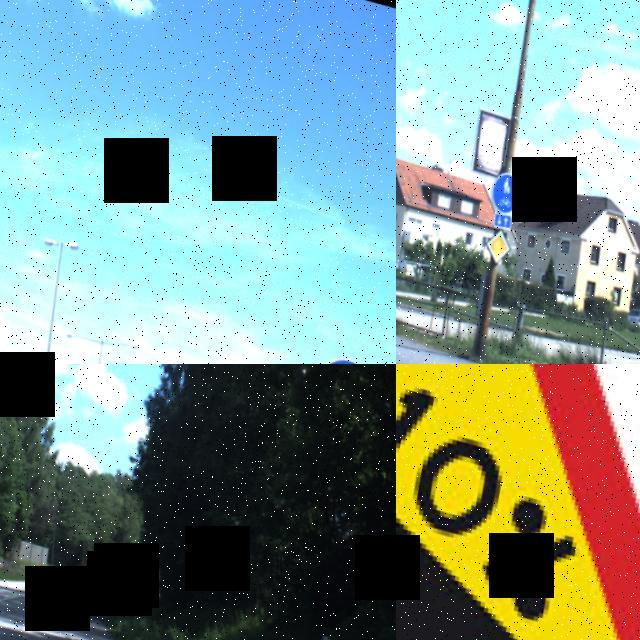55: (135, 555, 160, 585)
57: (476, 220, 512, 264), (485, 204, 512, 229)
91: (480, 161, 522, 213)
93: (291, 335, 383, 364)
Steep downhill: (396, 364, 640, 640)
